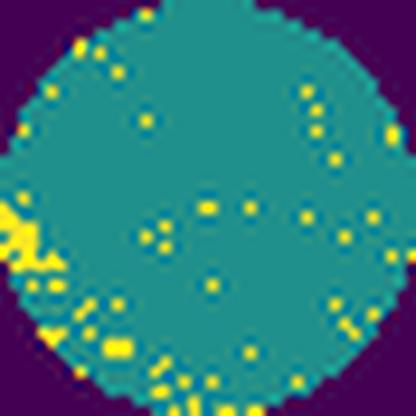Loc: (0, 206, 70, 271)
